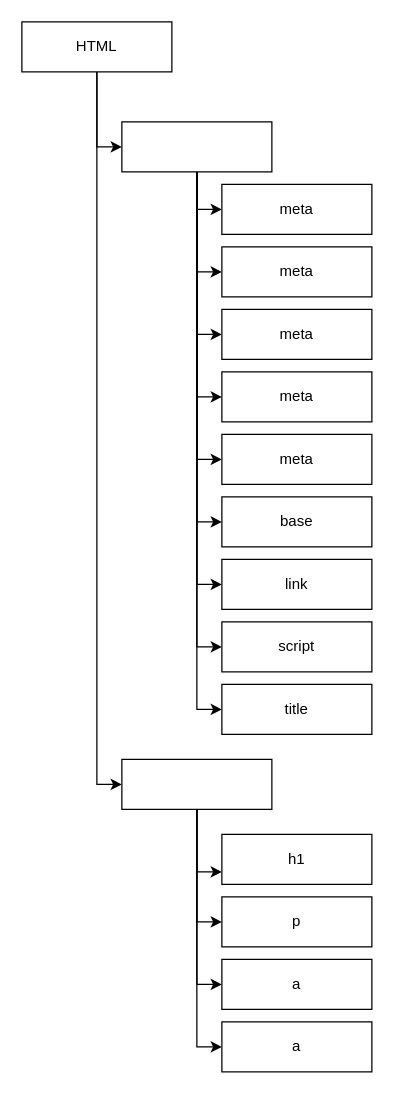
This 394x1094 diagram has some shape labels left out. Each missing label, with the centre of its shape:
"body" belongs at (x=196, y=783).
"head" belongs at (x=196, y=146).
